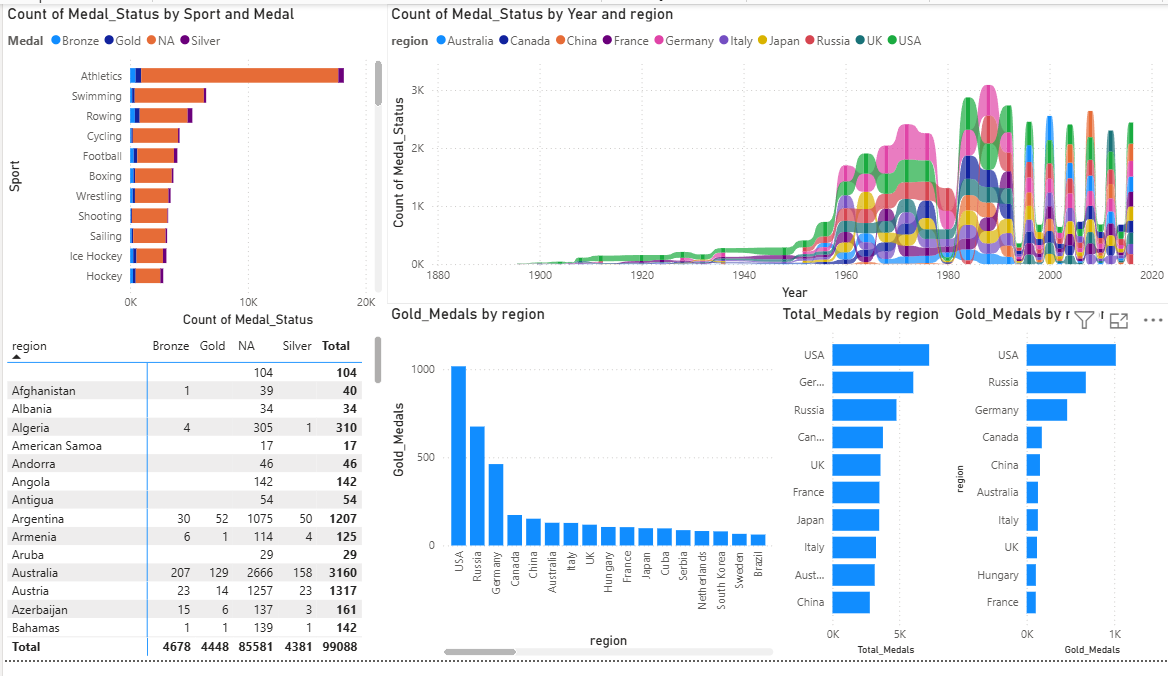

Layout of this report page (visuals, bound fields, positions):
{"tool":"powerbi","page":{"name":"Page 3","canvas":[1280,720],"ordinal":2},"visuals":[{"type":"pivotTable","fields":{"Rows":["country_definitions.region"],"Columns":["athlete_events.Medal"],"Values":["CountNonNull(athlete_events.Medal_Status)"]},"box":[0,359.5,421.3,360.9],"z":0},{"type":"columnChart","fields":{"Category":["country_definitions.region"],"Y":["athlete_events.Gold_Medals"]},"box":[421.3,329.3,429.5,391.1],"z":1000},{"type":"barChart","fields":{"Category":["country_definitions.region"],"Y":["athlete_events.Gold_Medals"]},"box":[1040.1,329.3,240.1,391.1],"z":2000},{"type":"barChart","fields":{"Category":["country_definitions.region"],"Y":["athlete_events.Total_Medals"]},"box":[850.8,329.3,189.4,391.1],"z":3000},{"type":"ribbonChart","fields":{"Category":["athlete_events.Year"],"Series":["country_definitions.region"],"Y":["CountNonNull(athlete_events.Medal_Status)"]},"box":[421.3,0,859,329.3],"z":4000},{"type":"barChart","fields":{"Category":["athlete_events.Sport"],"Series":["athlete_events.Medal"],"Y":["CountNonNull(athlete_events.Medal_Status)"]},"box":[0,0,421.3,359.5],"z":5000}]}

Visuals, with their boxes in screenshot pixels (x1, y1, x2, y2), scaled from the page's 1280x720 canvas onto the 1168x676 screenshot:
pivotTable - country_definitions.region x athlete_events.Medal: crop(0, 338, 384, 675)
columnChart - country_definitions.region x athlete_events.Gold_Medals: crop(384, 309, 776, 675)
barChart - country_definitions.region x athlete_events.Gold_Medals: crop(949, 309, 1167, 675)
barChart - country_definitions.region x athlete_events.Total_Medals: crop(776, 309, 949, 675)
ribbonChart - athlete_events.Year x country_definitions.region: crop(384, 0, 1167, 309)
barChart - athlete_events.Sport x athlete_events.Medal: crop(0, 0, 384, 338)
